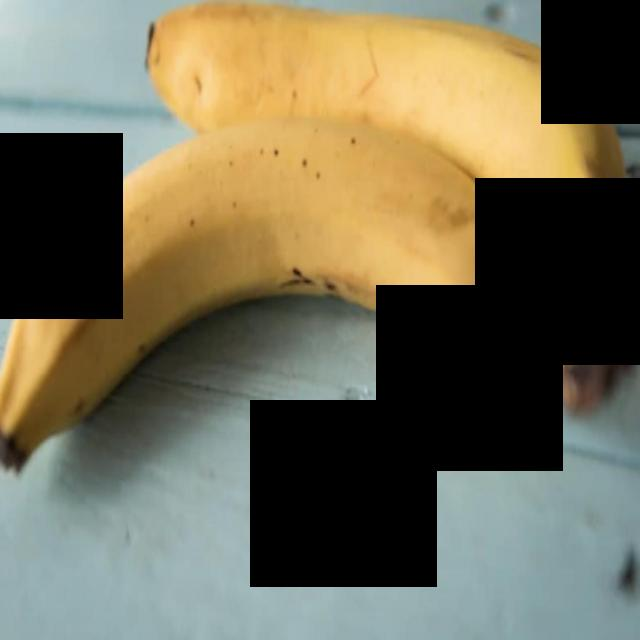banana: (0, 125, 638, 535), (124, 0, 639, 348)
